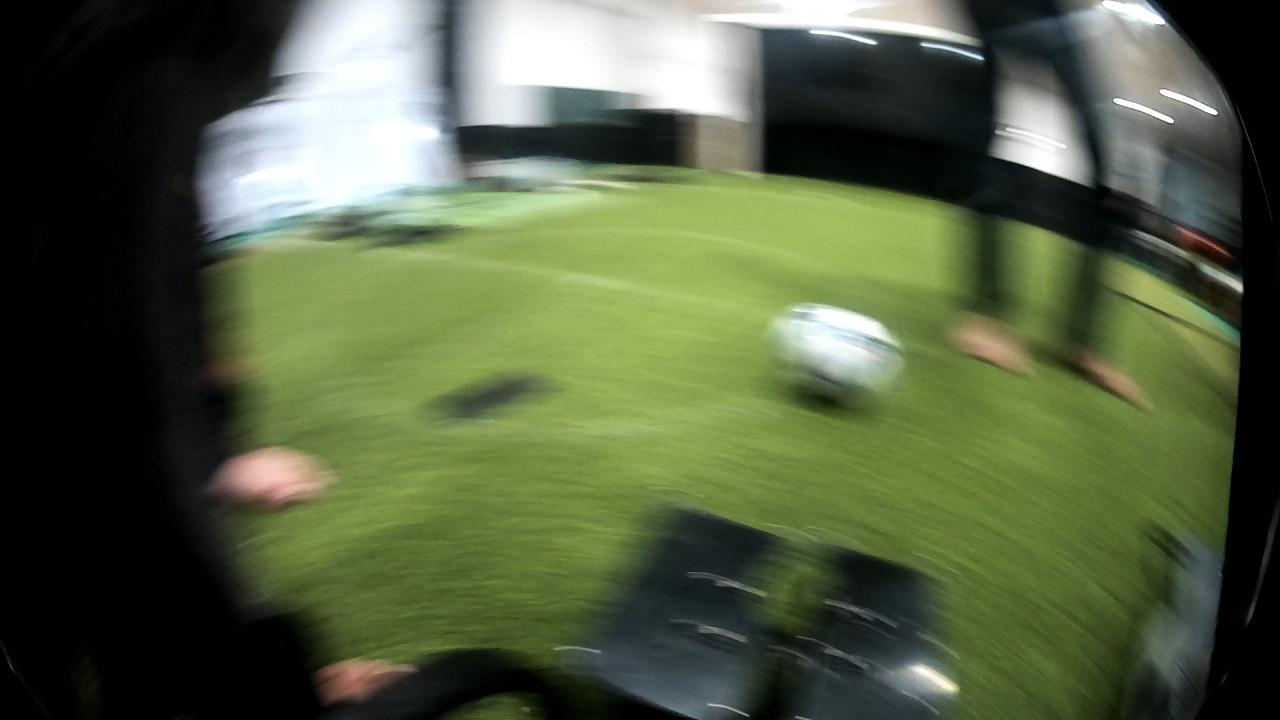ball: (761, 305, 904, 413)
